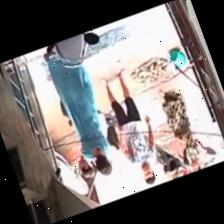person: (43, 52, 110, 174), (101, 69, 154, 183), (159, 91, 205, 171)
